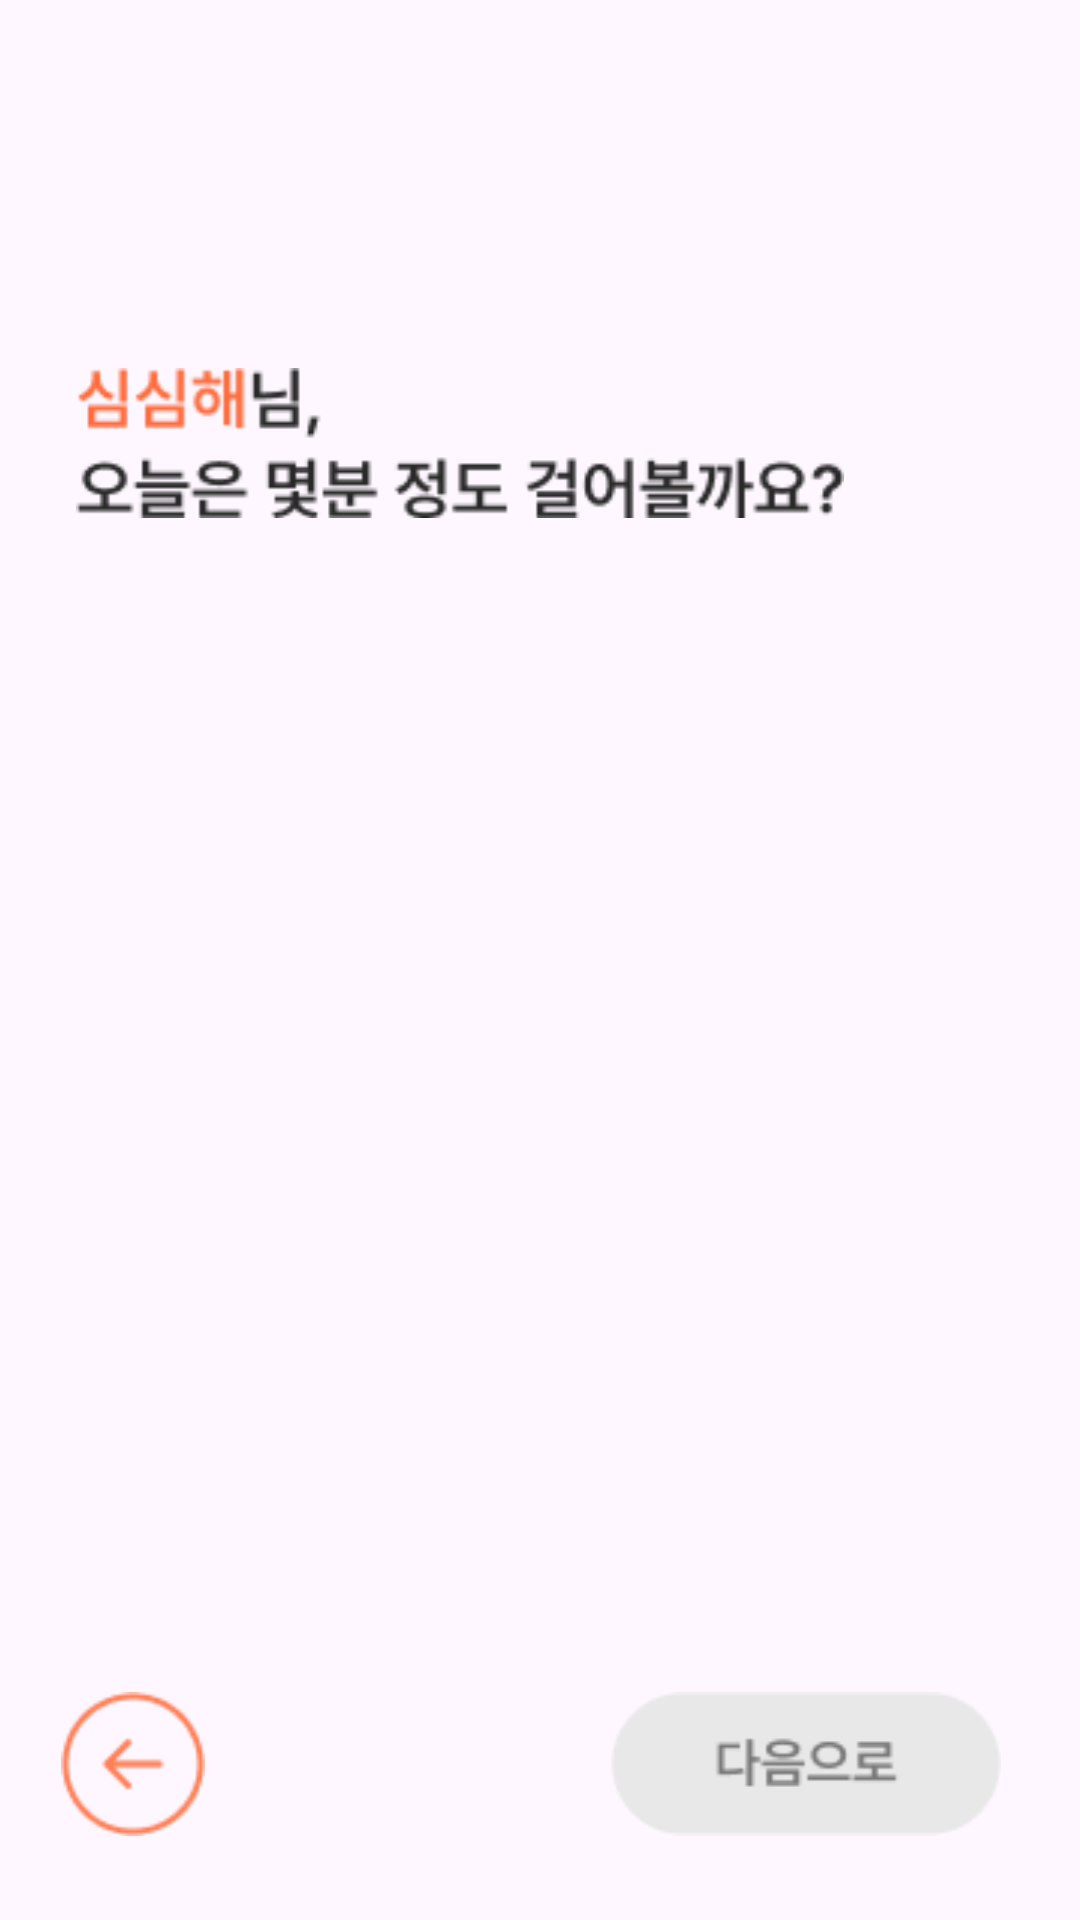

Named icons in this screenshot (1080px x 1920px) and their centers, point (x, y):
prev select: point (133, 1764)
